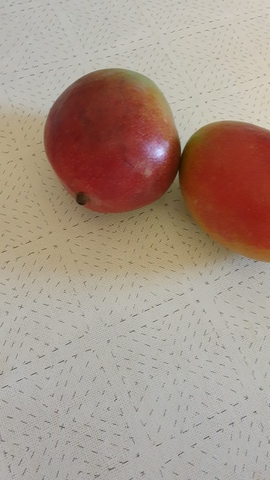Mango: (44, 69, 180, 215)
